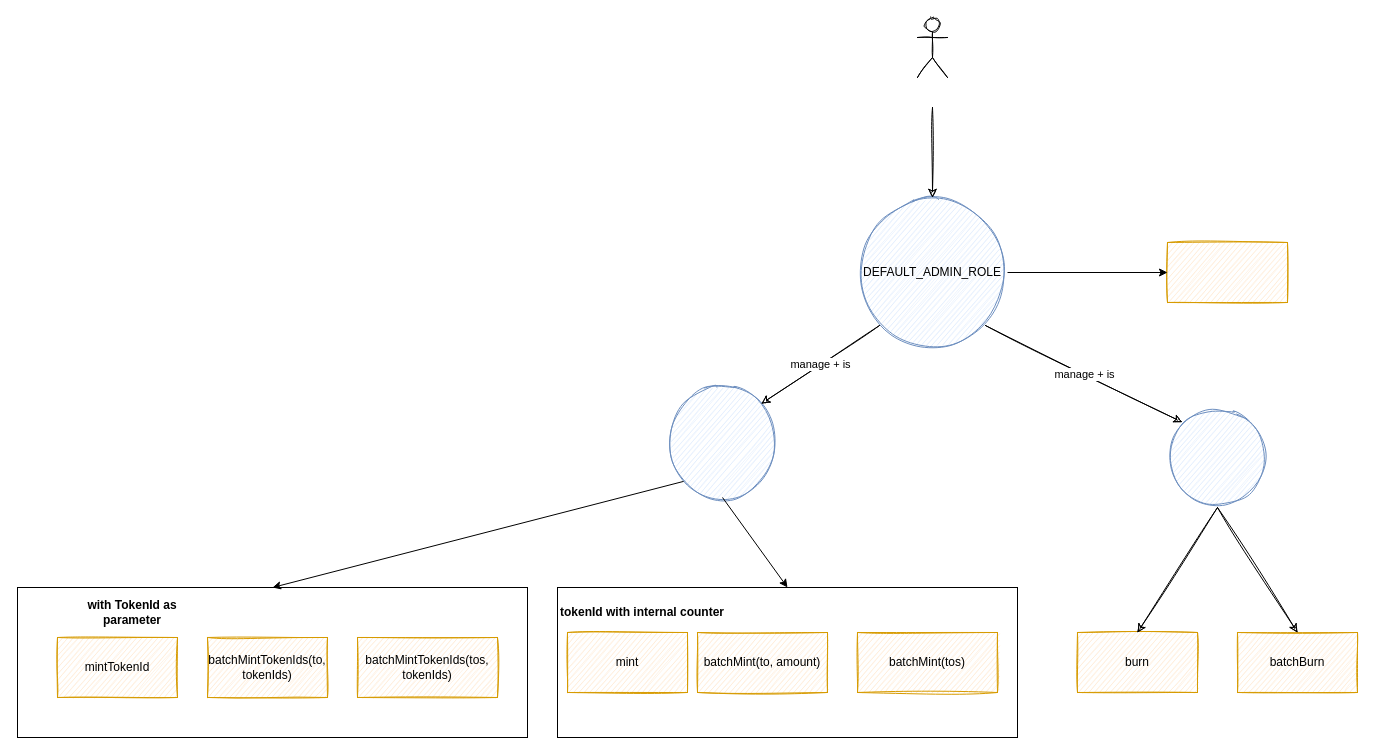
The diagram is 1375 pixels wide and 755 high, and some of its shapes have lost their labels. The box of each missing label's shape, as (x1, y1, x2, y2) in pixels:
Admin (Can be several Ethereum accounts): (916, 16, 948, 78)
BURNER_ROLE: (1166, 406, 1268, 508)
MINTER_ROLE: (666, 386, 778, 498)
setBaseURI: (1166, 242, 1288, 302)
